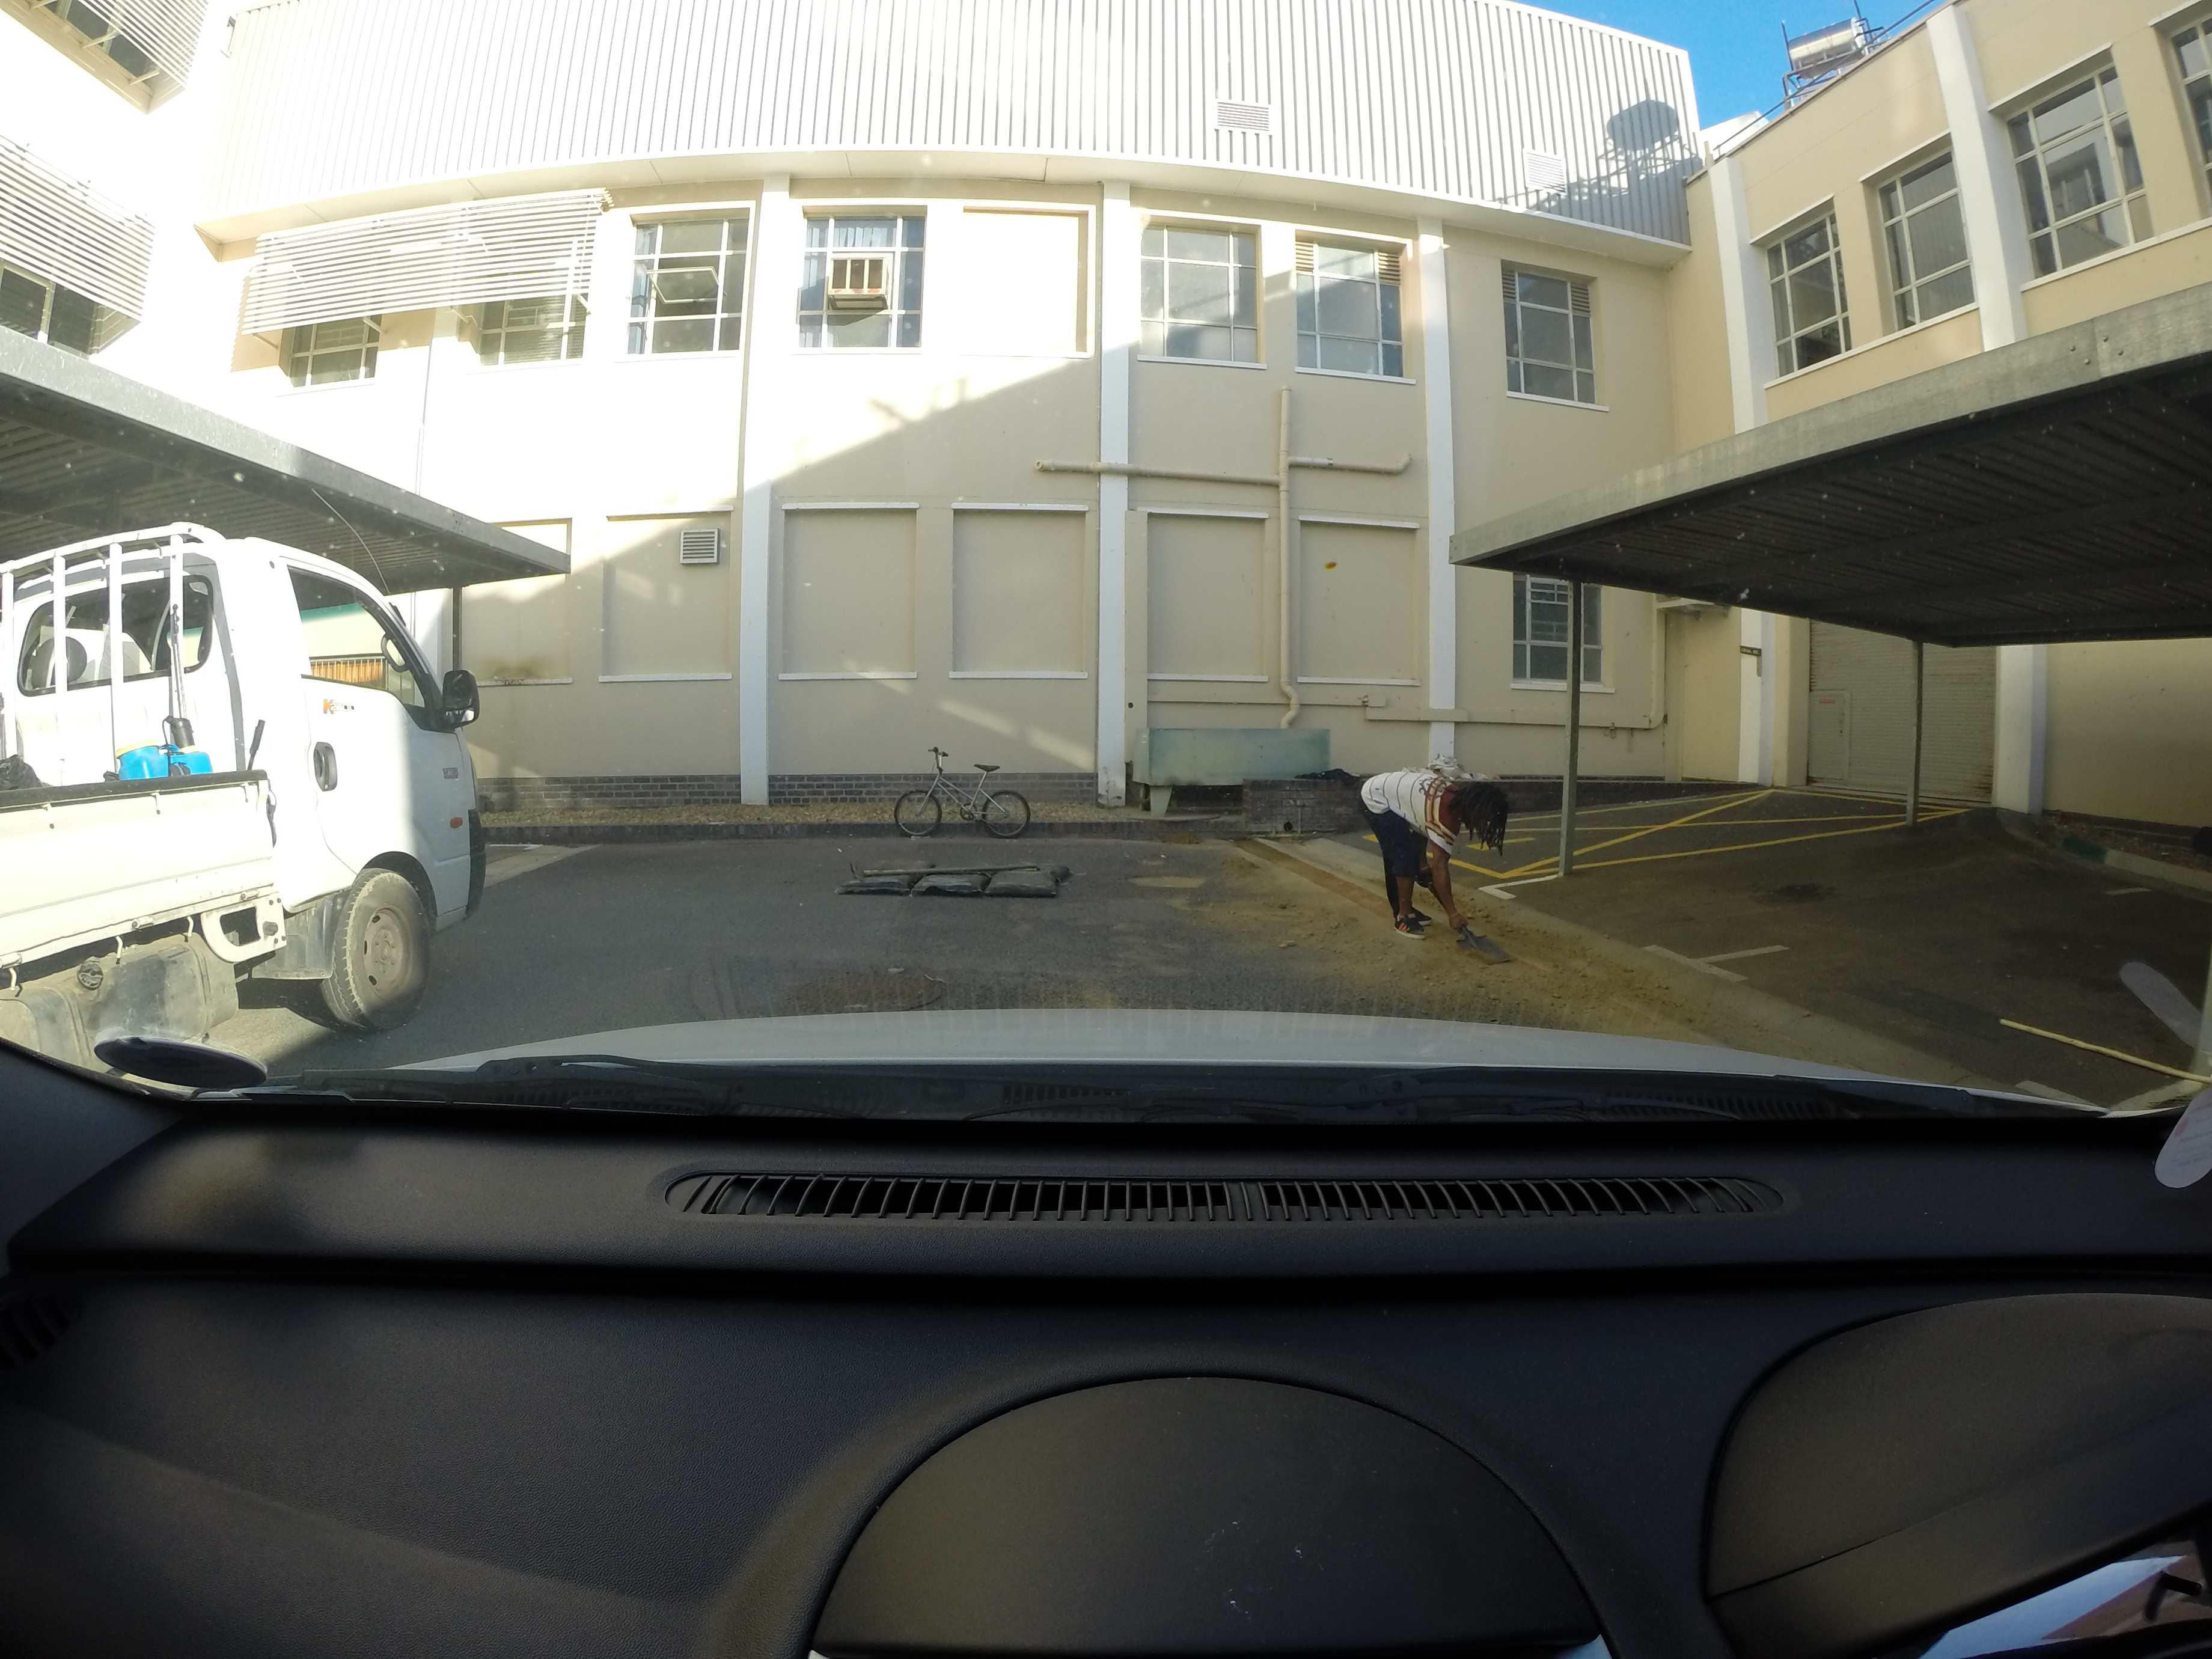pothole: (1111, 871, 1244, 894)
